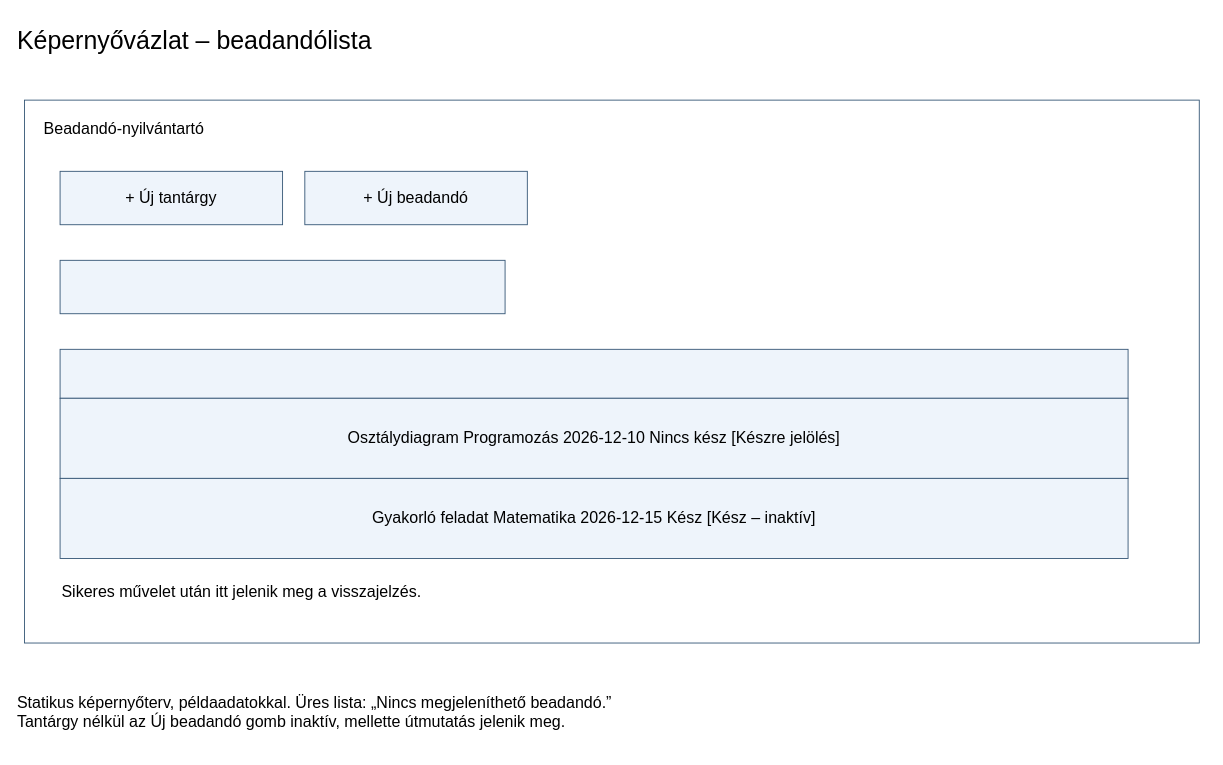
Some shapes in this 1223 by 765 pixel diagram are drawn without their labels. The box of each missing label's shape, as (x1, y1, x2, y2) in pixels:
Cím Tantárgy Határidő Állapot Művelet: (59, 348, 1128, 398)
Tantárgy: Összes tantárgy v: (59, 259, 505, 314)
